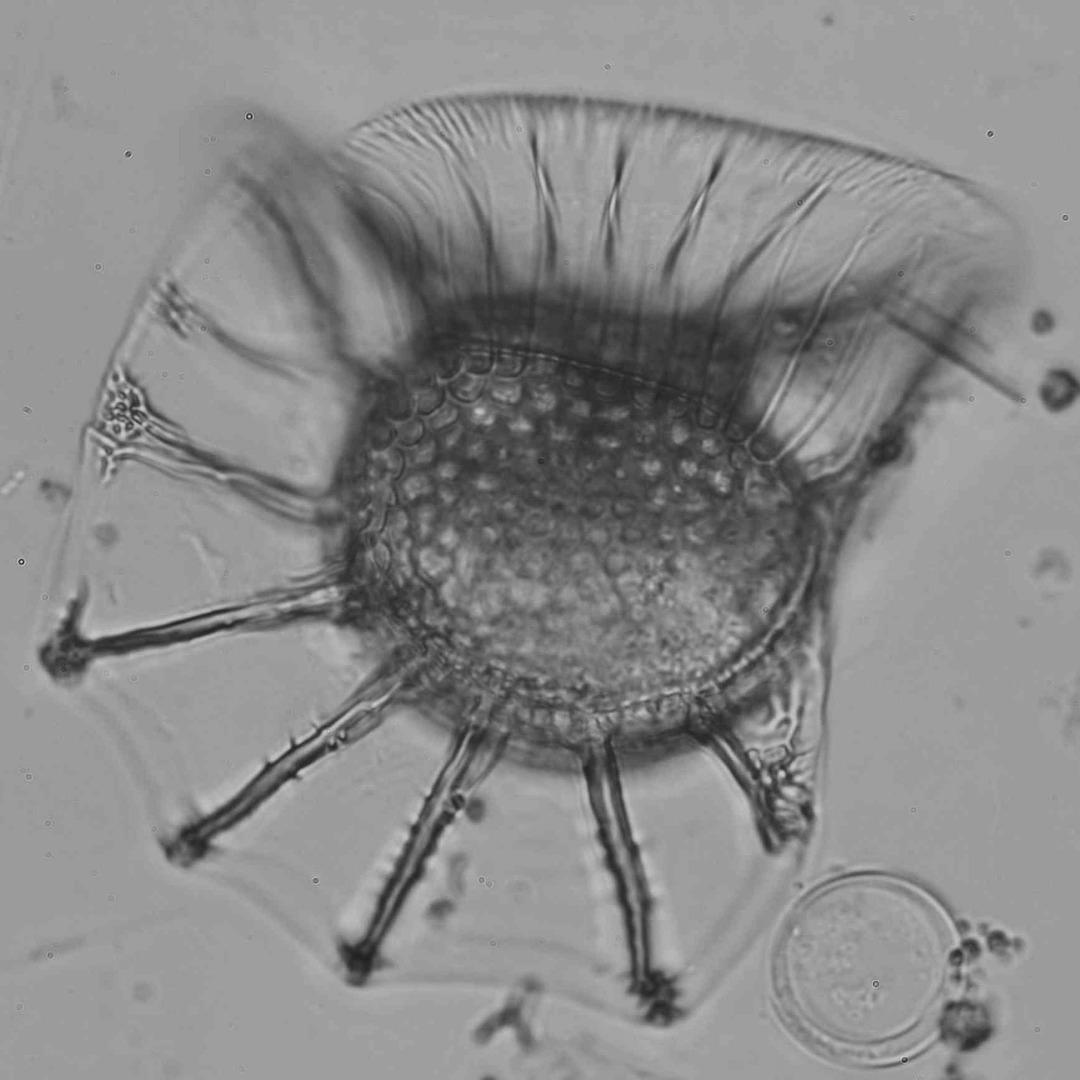ornithocercus_thumii: (38, 96, 1023, 1027)
